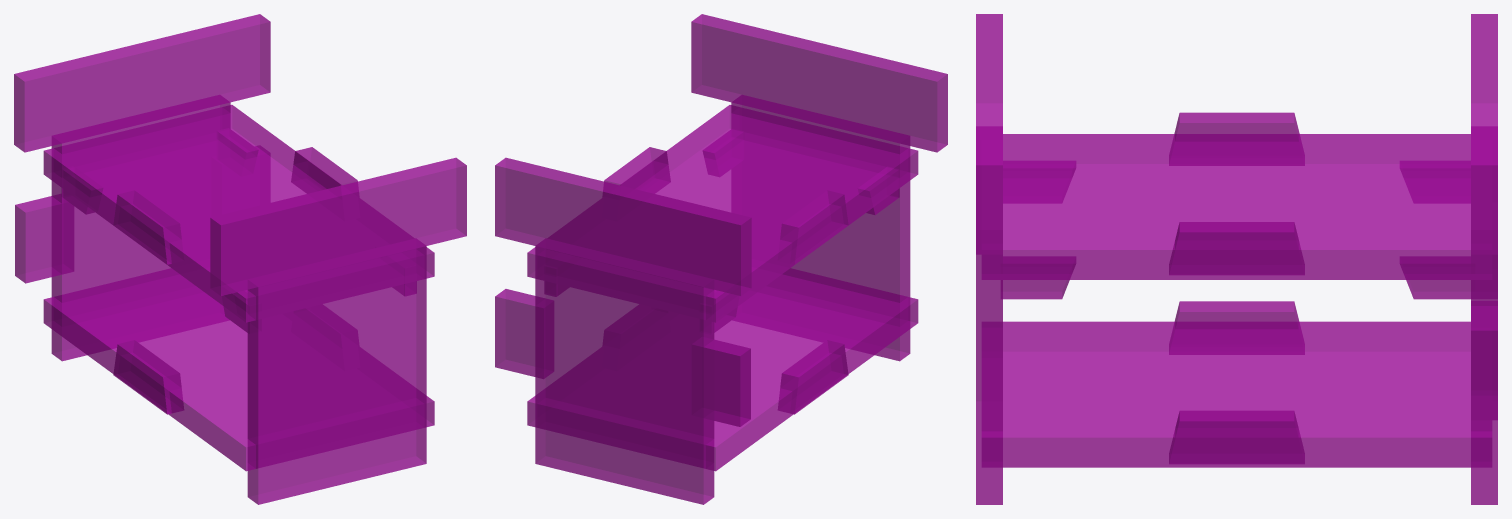
The model's file is SM_Prop_Bunk_Bed_01_Collision.fbx.
The picture shows the model from 3 angles, left to right: view 1: azimuth 30°, elevation 25°; view 2: azimuth 150°, elevation 25°; view 3: azimuth 270°, elevation 25°; orthographic projection. The views are drawn at different scales.
Visible parts, largest first — view 1: SM_Prop_Bunk_Bed_01_Collision; view 2: SM_Prop_Bunk_Bed_01_Collision; view 3: SM_Prop_Bunk_Bed_01_Collision.
Boxes of the visible parts, <box> form: SM_Prop_Bunk_Bed_01_Collision: <box>14,14,466,504</box>; SM_Prop_Bunk_Bed_01_Collision: <box>495,14,947,504</box>; SM_Prop_Bunk_Bed_01_Collision: <box>976,14,1497,504</box>.
Bounding box in the file's own units: 177 × 199 × 258.
